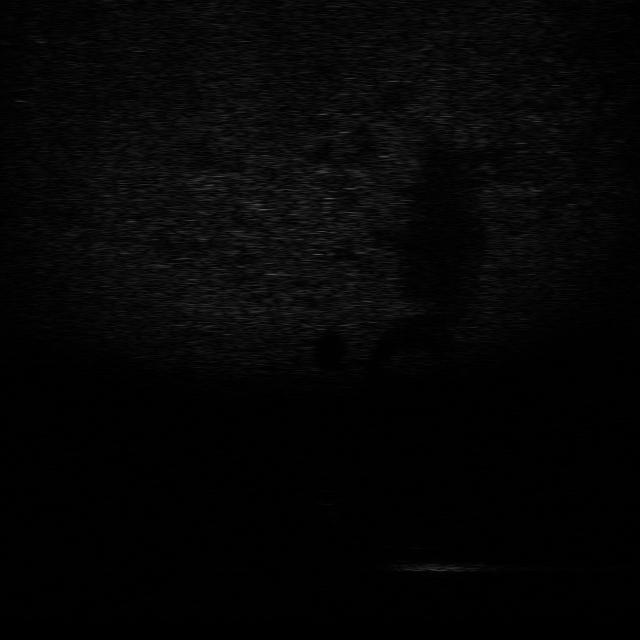ball: (309, 484, 350, 508)
metal bucket: (388, 549, 504, 578)
tyre: (380, 526, 455, 554)
